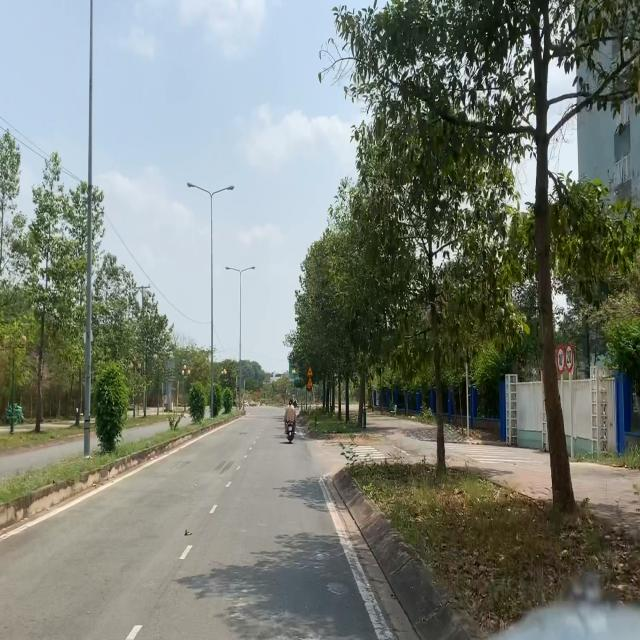Duong giao nhau: (307, 365, 313, 377)
Nguoi di bo cat ngang: (307, 378, 313, 387)
